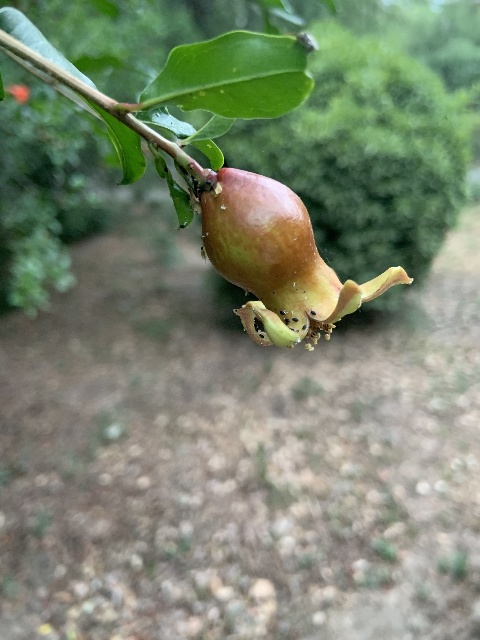early-fruit: (200, 165, 413, 351)
